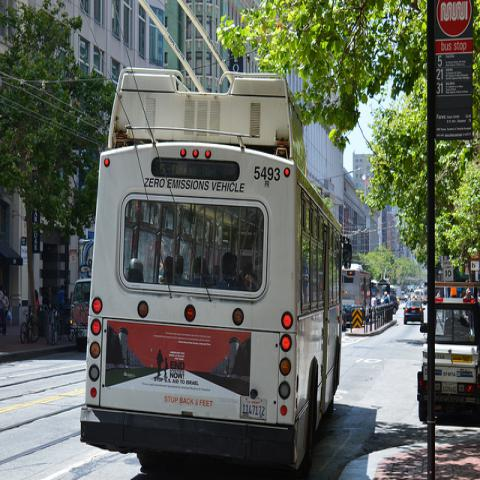bus: (79, 65, 349, 474)
car: (403, 300, 425, 324), (414, 288, 428, 305)
truck: (418, 282, 479, 423), (342, 262, 372, 307), (390, 284, 408, 302)
